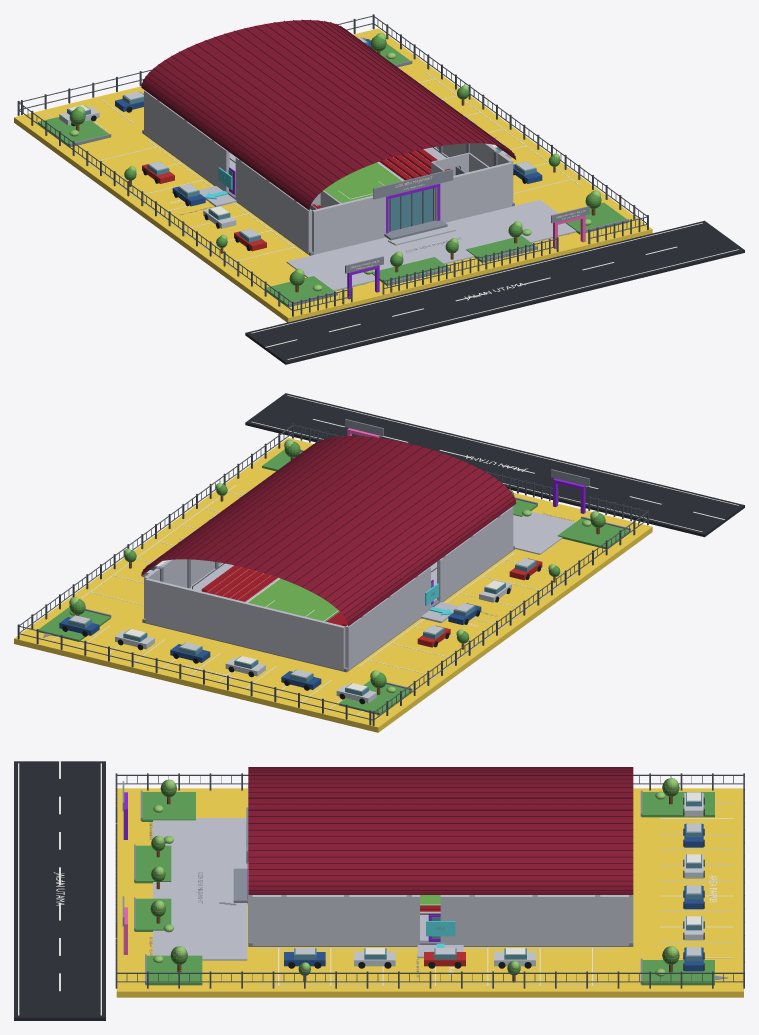
File: denah-gor.glb
The picture shows the model from 3 angles, top to bottom: view 1: azimuth 30°, elevation 25°; view 2: azimuth 150°, elevation 25°; view 3: azimuth 270°, elevation 25°; orthographic projection. The views are drawn at different scales.
Parts seen in each view (by area): view 1: Atap lengkung merah marun - opsional, Tapak utama - area paving kuning, JALAN UTAMA - aspal, Area pedestrian depan aula, Dinding samping aula - belakang, Dinding samping aula - depan, Dinding depan kiri aula, Dinding depan kanan aula, Lapangan utama hijau, Kaca pintu masuk utama, Bed taman.001, Papan nama utama GOR (+7 smaller); view 2: Atap lengkung merah marun - opsional, Tapak utama - area paving kuning, JALAN UTAMA - aspal, Dinding belakang aula, Dinding samping aula - belakang, Dinding samping aula - depan, Lapangan utama hijau, Area pedestrian depan aula, Dinding samping aula - belakang.001, Bed taman.001, Bed taman.005, Bed taman (+4 smaller); view 3: Atap lengkung merah marun - opsional, Tapak utama - area paving kuning, JALAN UTAMA - aspal, Area pedestrian depan aula, Dinding samping aula - belakang.001, Dinding samping aula - depan.001, Bed taman.004, Bed taman.001, Bed taman, Bed taman.005, Pagar samping bawah.001, Pagar samping atas.001 (+17 smaller).
Boxes of the visible parts, x1,y1,x2,y2 form: Atap lengkung merah marun - opsional: (141,20,515,210); Tapak utama - area paving kuning: (14,28,652,322); JALAN UTAMA - aspal: (245,220,744,364); Area pedestrian depan aula: (286,200,576,290); Dinding samping aula - belakang: (144,90,229,191); Dinding samping aula - depan: (235,157,311,254); Dinding depan kiri aula: (312,195,389,254); Dinding depan kanan aula: (434,162,511,222); Lapangan utama hijau: (324,162,401,203); Kaca pintu masuk utama: (389,188,432,231); Bed taman.001: (266,276,337,306); Papan nama utama GOR: (373,169,453,199); Atap lengkung merah marun - opsional: (141,436,516,626); Tapak utama - area paving kuning: (14,438,652,732); JALAN UTAMA - aspal: (245,393,744,537); Dinding belakang aula: (145,578,345,670); Dinding samping aula - belakang: (345,567,430,669); Dinding samping aula - depan: (437,506,513,602); Lapangan utama hijau: (248,578,339,621); Area pedestrian depan aula: (513,511,574,554); Dinding samping aula - belakang.001: (144,559,221,618); Bed taman.001: (557,518,630,548); Bed taman.005: (339,680,411,715); Bed taman: (38,607,110,641); Atap lengkung merah marun - opsional: (248,768,633,894); Tapak utama - area paving kuning: (116,788,743,997); JALAN UTAMA - aspal: (14,761,105,1020); Area pedestrian depan aula: (153,818,247,960); Dinding samping aula - belakang.001: (440,895,628,945); Dinding samping aula - depan.001: (252,895,419,945); Bed taman.004: (145,955,202,985); Bed taman.001: (141,792,195,821); Bed taman: (641,960,714,985); Bed taman.005: (641,792,714,817); Pagar samping bawah.001: (117,981,743,982); Pagar samping atas.001: (117,972,743,973).
Size of the model in its own units: 58 by 10.36 by 69.88.
